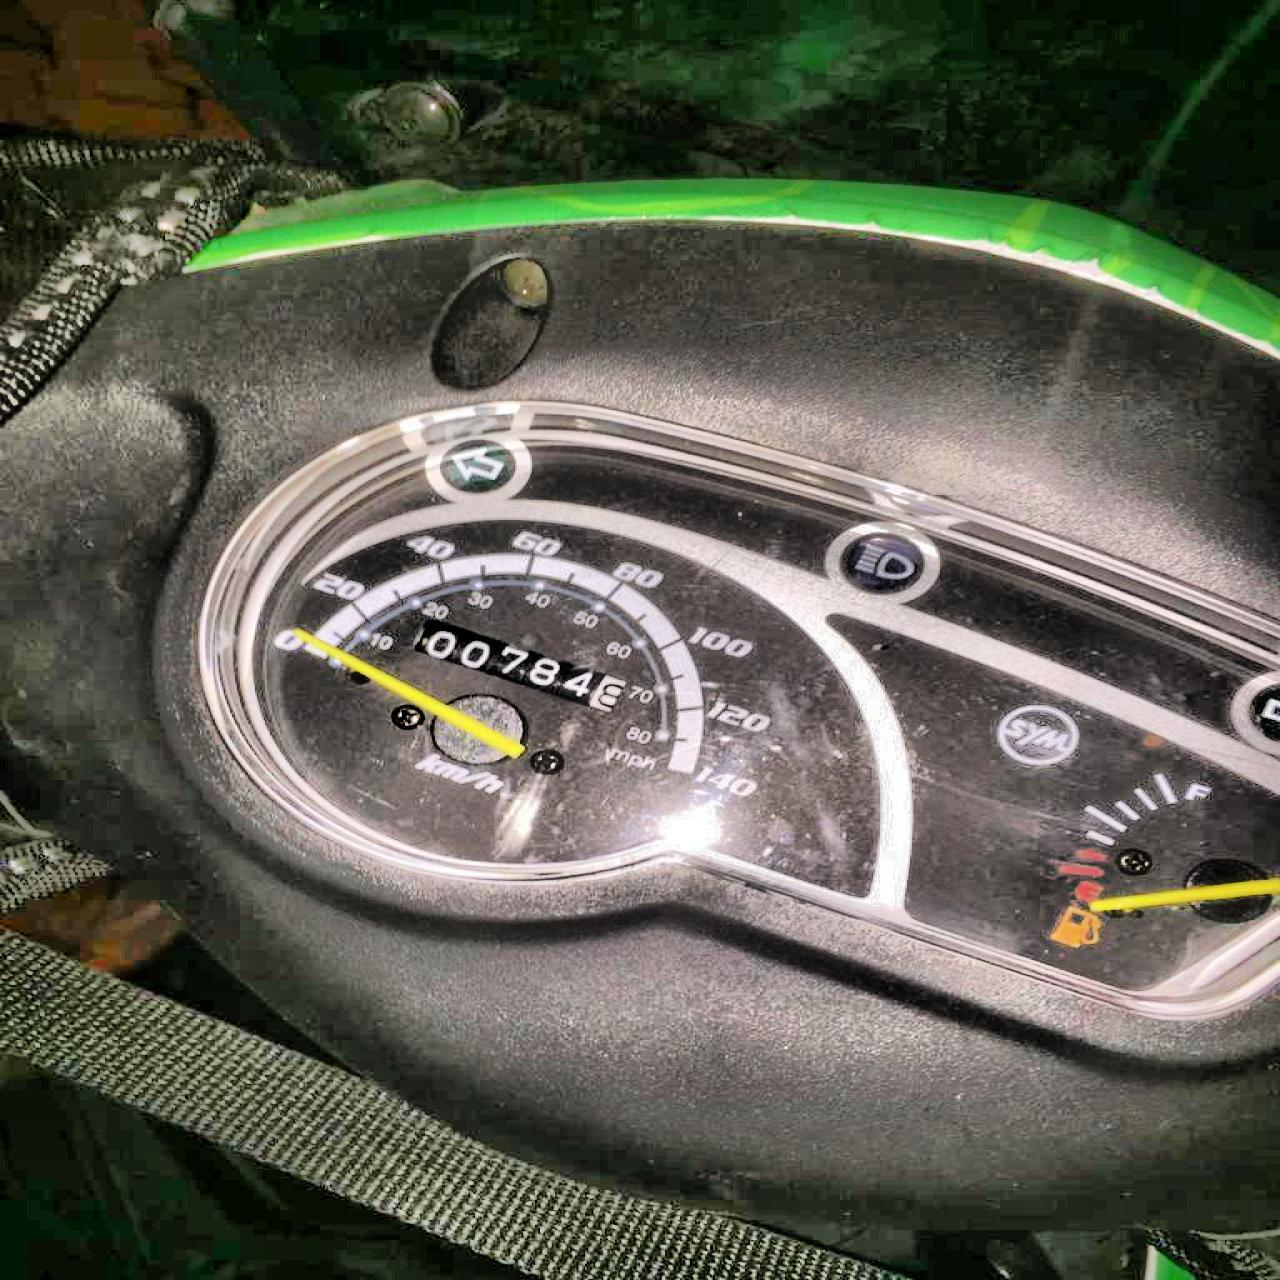0: (424, 627, 454, 659), (458, 638, 486, 668), (585, 613, 597, 627), (617, 644, 628, 658)
4: (560, 669, 592, 699)
5: (570, 614, 584, 624)
6: (605, 640, 618, 655)
7: (497, 644, 525, 676)
8: (526, 656, 557, 686), (593, 681, 621, 709)
odometer: (400, 613, 632, 715)
